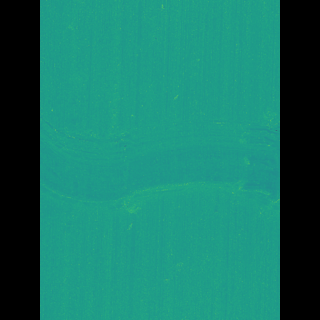Loch: (69, 101, 251, 227)
